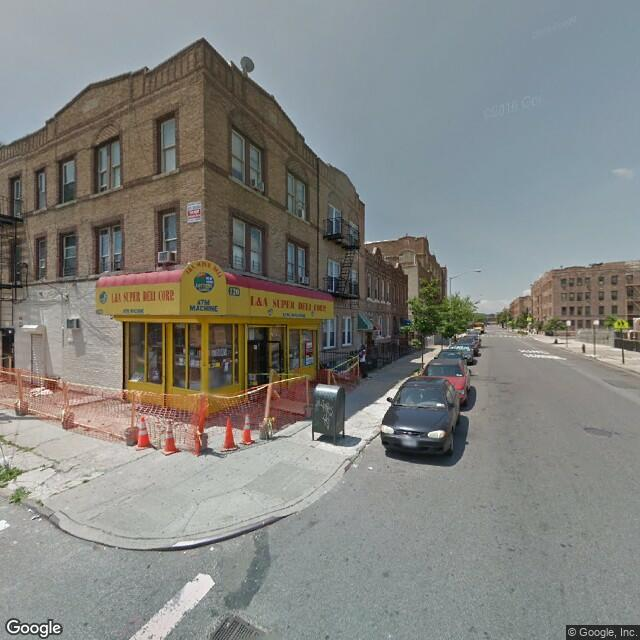litter: (31, 512, 44, 521), (366, 465, 371, 471), (352, 463, 356, 468), (210, 546, 213, 549)
